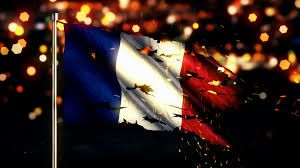French Flag: (62, 24, 237, 147)
